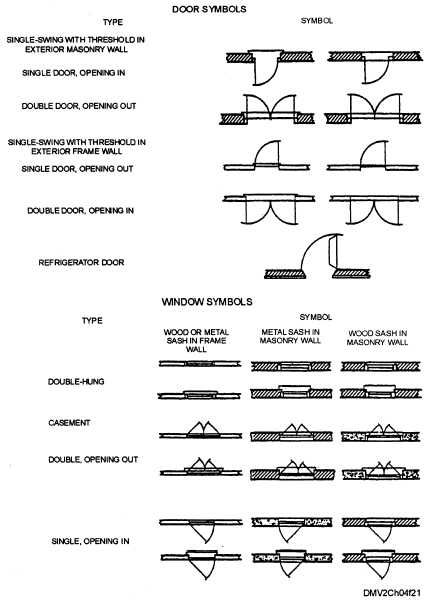window: (153, 548, 246, 584), (339, 415, 422, 455), (155, 510, 246, 546), (250, 547, 336, 585), (155, 413, 245, 449), (249, 413, 336, 450), (249, 508, 337, 544), (339, 508, 422, 546), (156, 454, 247, 488), (250, 455, 339, 488), (339, 352, 426, 380), (247, 354, 336, 380), (154, 383, 246, 407), (340, 383, 428, 406), (249, 384, 336, 407), (157, 354, 243, 375)
